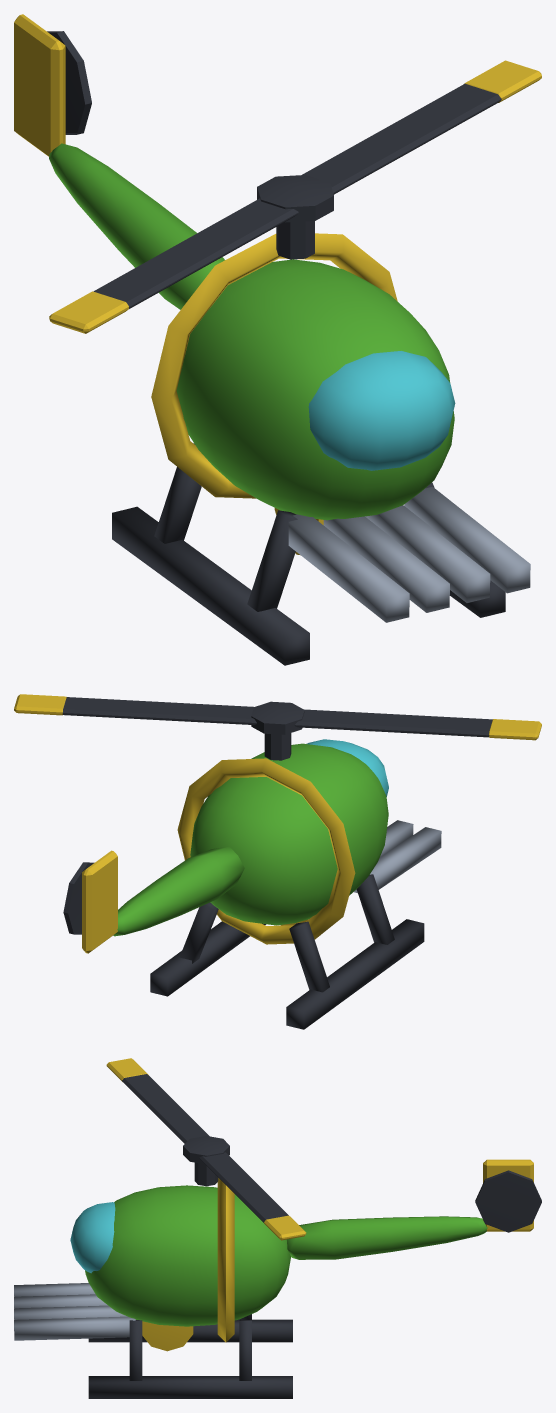
3 views of the same model, one above another, from view 1: azimuth 30°, elevation 25°; view 2: azimuth 150°, elevation 25°; view 3: azimuth 270°, elevation 25° (orthographic). The views are drawn at different scales.
Visible parts, largest first — view 1: heli_0_base, heli_1_torreta; view 2: heli_0_base, heli_1_torreta; view 3: heli_0_base, heli_1_torreta.
Part boxes in pixels (x1=…): heli_0_base: x1=14, y1=14, x2=530, y2=665; heli_1_torreta: x1=49, y1=60, x2=541, y2=333; heli_0_base: x1=63, y1=739, x2=441, y2=1029; heli_1_torreta: x1=14, y1=694, x2=541, y2=760; heli_0_base: x1=14, y1=1159, x2=541, y2=1398; heli_1_torreta: x1=106, y1=1058, x2=306, y2=1240.
Size of the model in its own units: 1.08 by 0.632 by 1.35.
